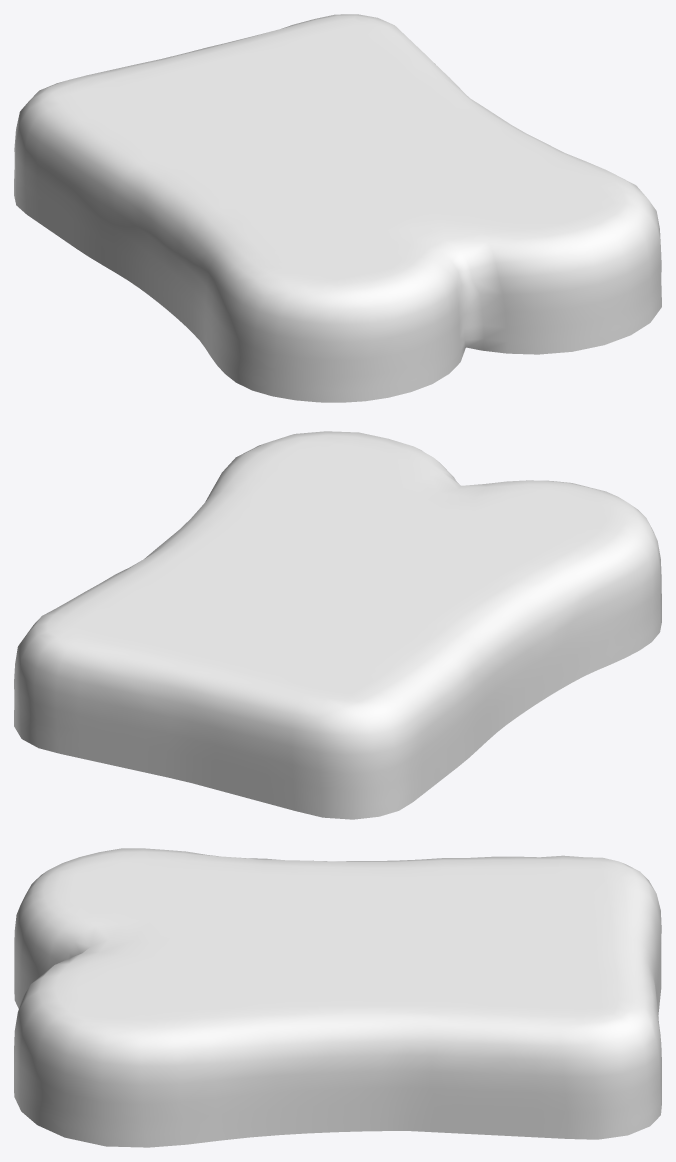
Rendered from Bread.fbx.
3 views of the same model, one above another, from view 1: azimuth 30°, elevation 25°; view 2: azimuth 150°, elevation 25°; view 3: azimuth 270°, elevation 25° (orthographic). The views are drawn at different scales.
Visible parts, largest first — view 1: Bread; view 2: Bread; view 3: Bread.
Part boxes in pixels (left/top/right/bottom): Bread: left=14, top=14, right=661, bottom=402; Bread: left=14, top=431, right=661, bottom=819; Bread: left=14, top=848, right=661, bottom=1147.
Size of the model in its own units: 54.82 by 12.76 by 72.11.
